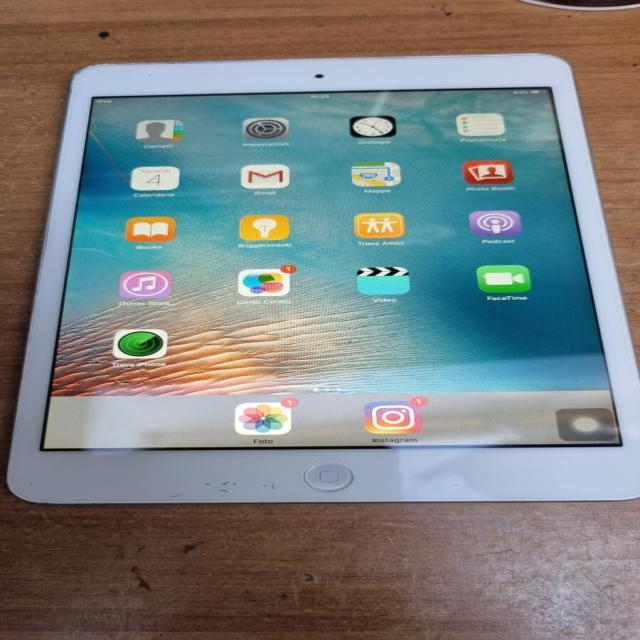Dislodged Screen: (167, 462, 283, 516)
